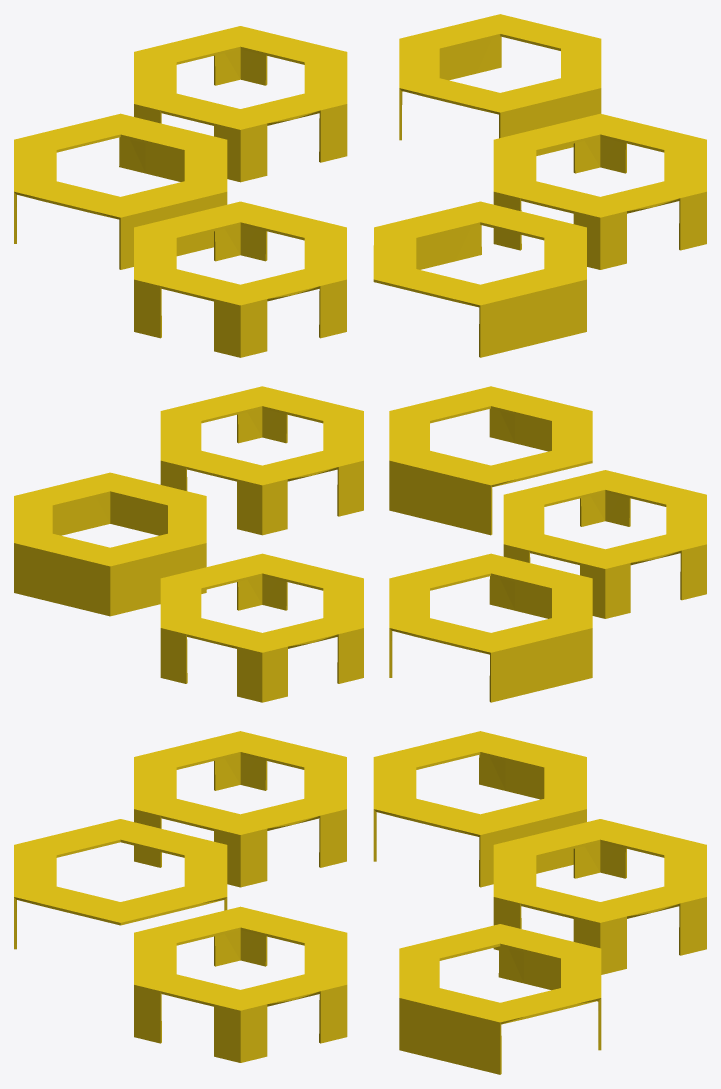
The model's file is boxer_world_rooms.dae.
The picture shows the model from 3 angles, top to bottom: view 1: azimuth 30°, elevation 25°; view 2: azimuth 150°, elevation 25°; view 3: azimuth 270°, elevation 25°; orthographic projection. The views are drawn at different scales.
Parts seen in each view (by area): view 1: Curve_002; view 2: Curve_002; view 3: Curve_002.
Part boxes in pixels (x1,y1,x2,y2): Curve_002: (14, 14, 706, 357); Curve_002: (14, 386, 706, 702); Curve_002: (14, 731, 706, 1074).
Bounding box in the file's own units: 29.82 × 29.96 × 2.5.
